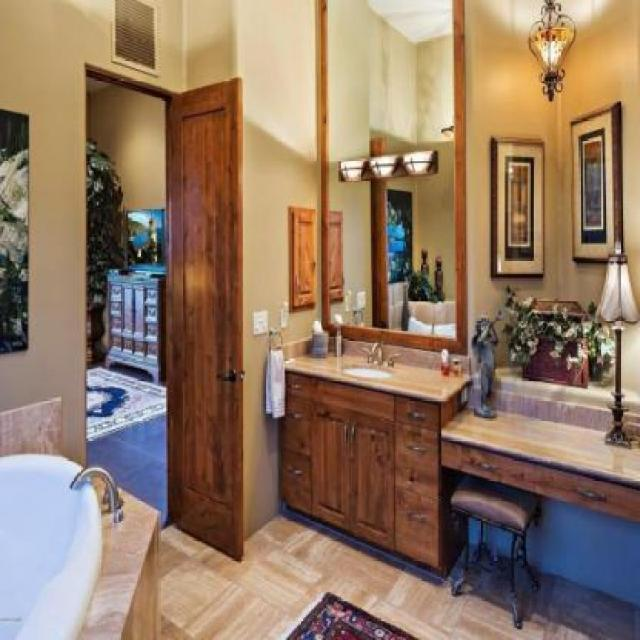Floor: (87, 412, 639, 638)
